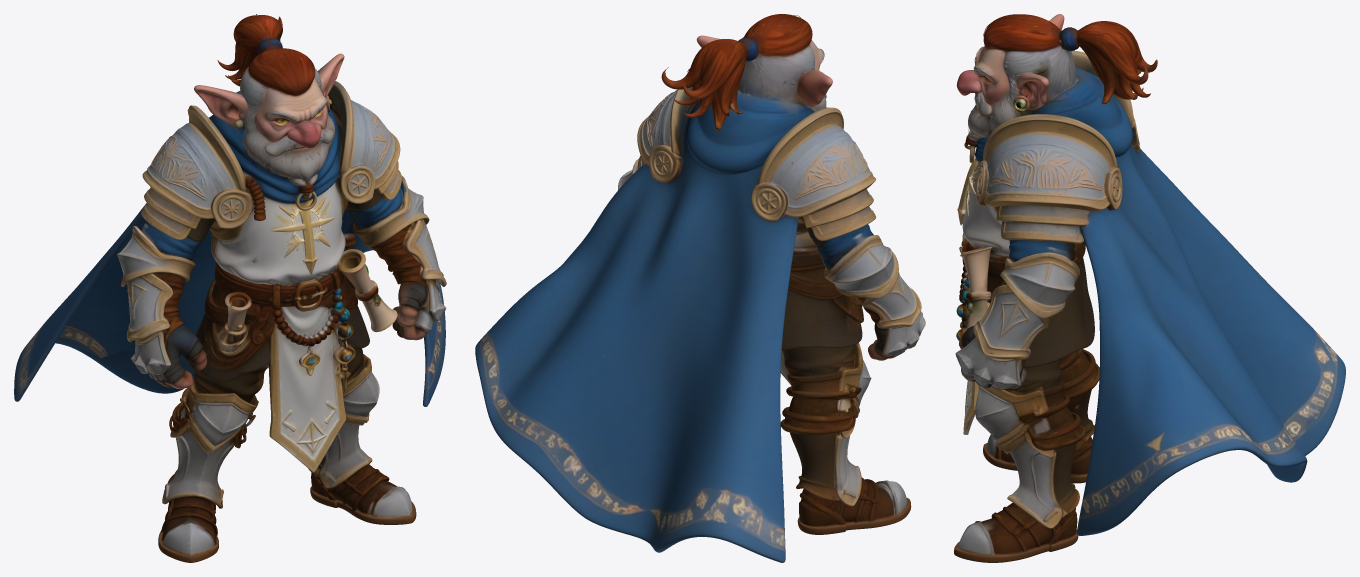
File: gnome_paladin_full_male_01.glb
The picture shows the model from 3 angles, left to right: view 1: azimuth 30°, elevation 25°; view 2: azimuth 150°, elevation 25°; view 3: azimuth 270°, elevation 25°; orthographic projection. The views are drawn at different scales.
Parts seen in each view (by area): view 1: material; view 2: material; view 3: material.
Part boxes in pixels (bbox=[...]): material: bbox=[14, 14, 446, 562]; material: bbox=[475, 14, 925, 562]; material: bbox=[954, 14, 1345, 562].
Bounding box in the file's own units: 0.7302 × 0.895 × 0.6448.
1 material, 1 textured.
